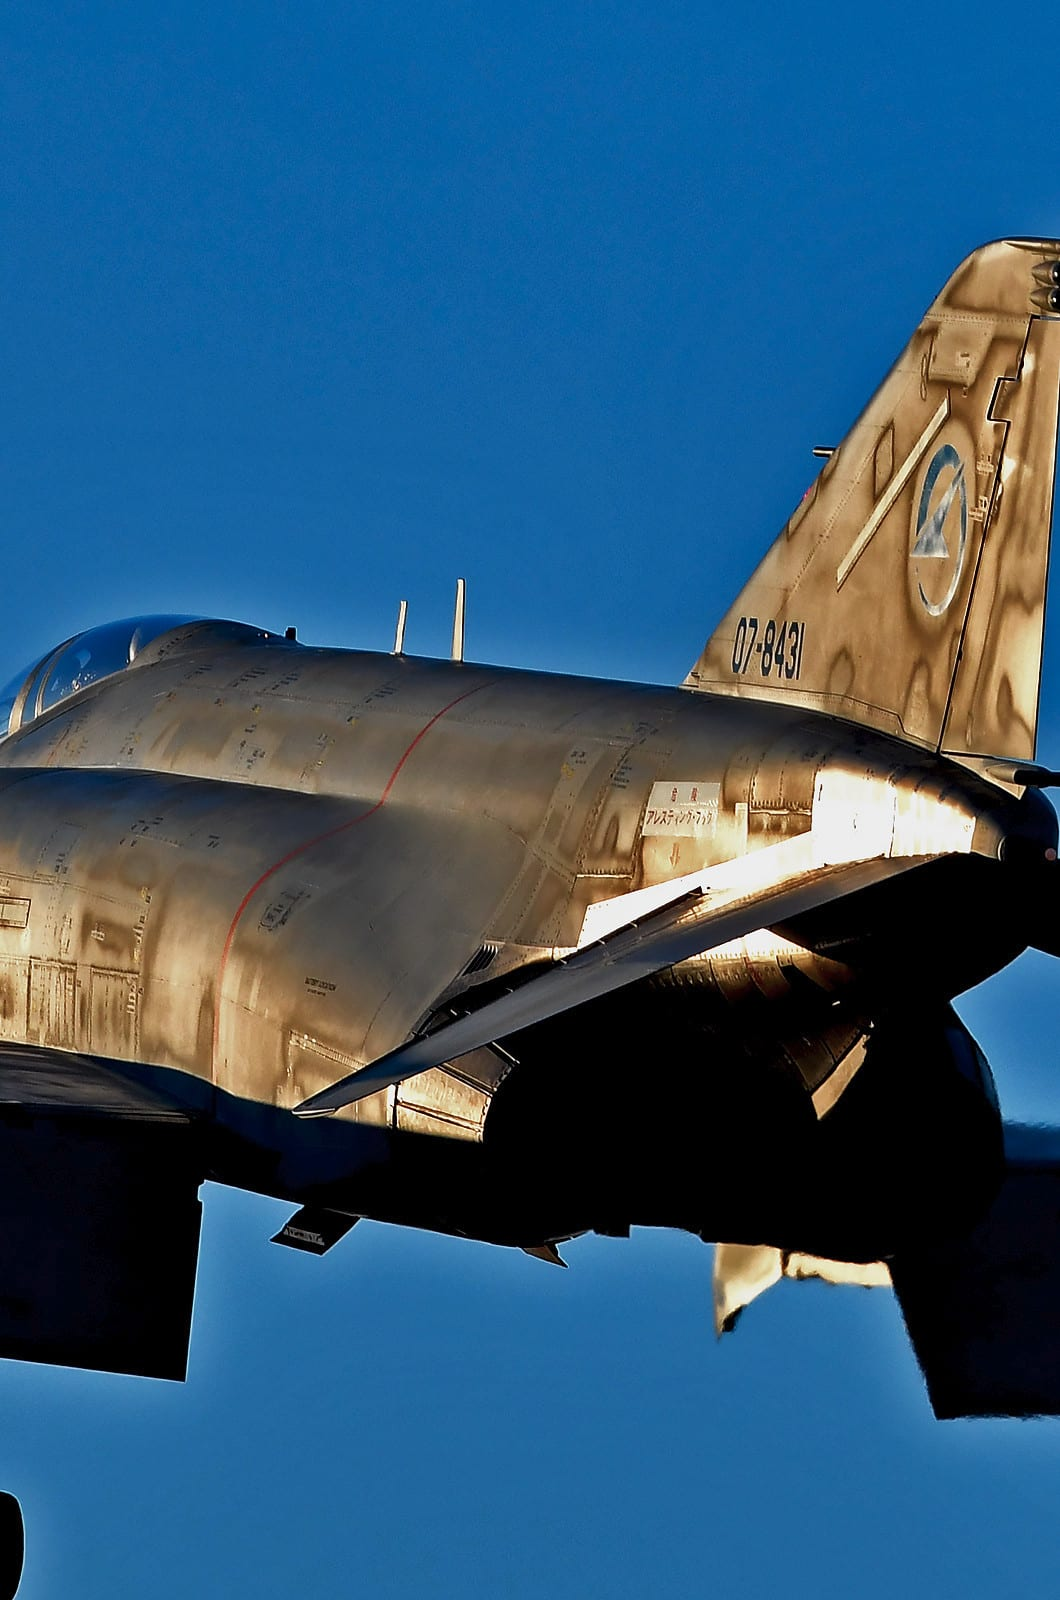F4: (1, 235, 1060, 1600)
